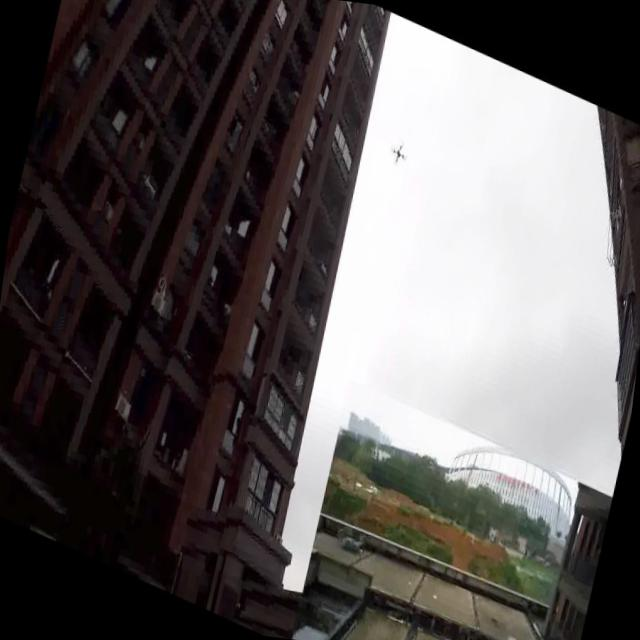drone: (388, 136, 411, 166)
